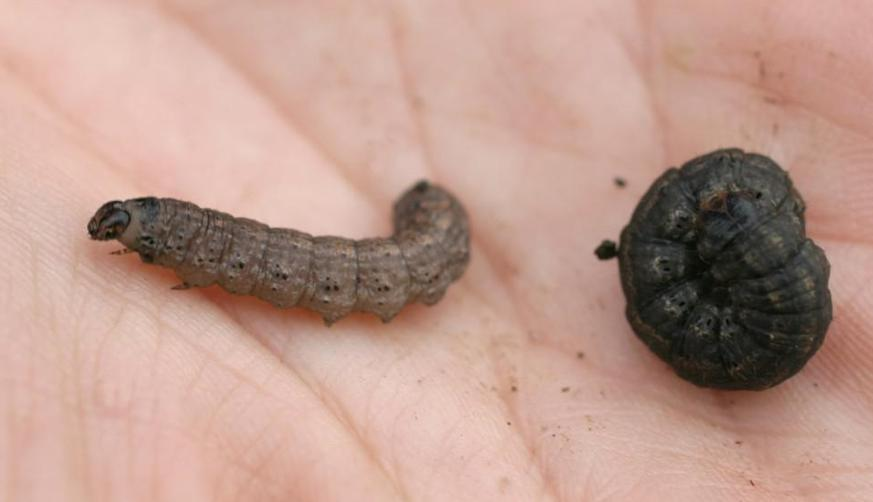caterpillars: (74, 144, 499, 343), (592, 115, 856, 415)
